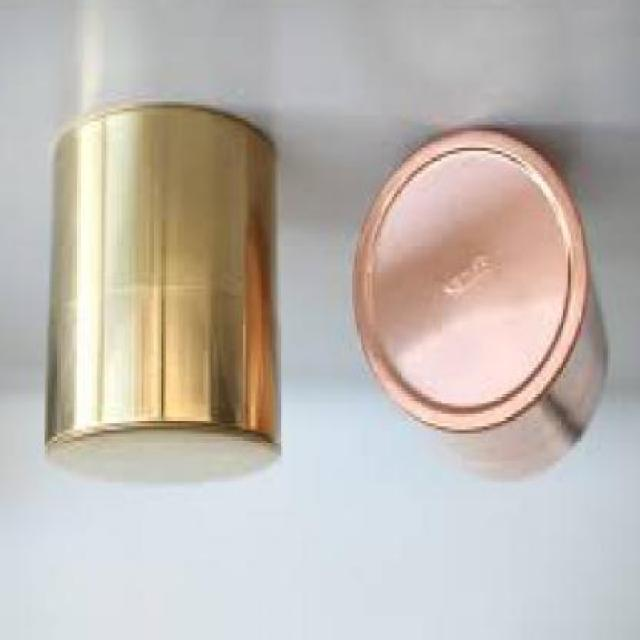METAL: (358, 132, 610, 488), (47, 116, 281, 490)
